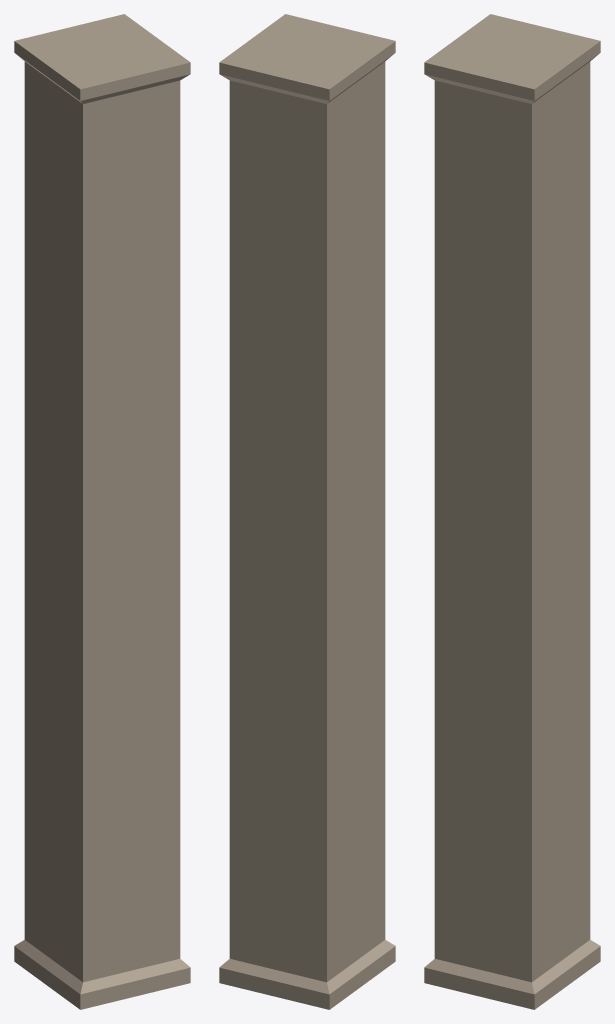
The model's file is SM_Guard_Rail_Box_02.FBX.
3 views of the same model, side by side, from view 1: azimuth 30°, elevation 25°; view 2: azimuth 150°, elevation 25°; view 3: azimuth 330°, elevation 25° (orthographic).
Parts seen in each view (by area): view 1: Object002; view 2: Object002; view 3: Object002.
Boxes of the visible parts, <box> form: Object002: <box>14,14,190,1009</box>; Object002: <box>219,14,395,1009</box>; Object002: <box>424,14,600,1009</box>.
Size of the model in its own units: 22.71 by 181 by 23.63.
